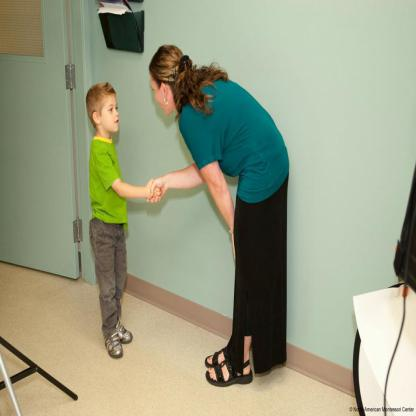face: (152, 75, 174, 116), (100, 97, 120, 134)
